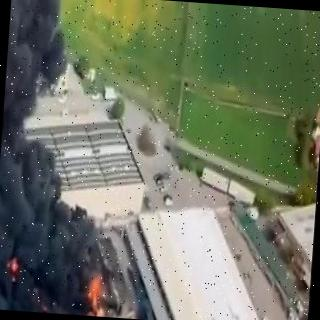smoke: (0, 0, 85, 233), (0, 239, 36, 307)
